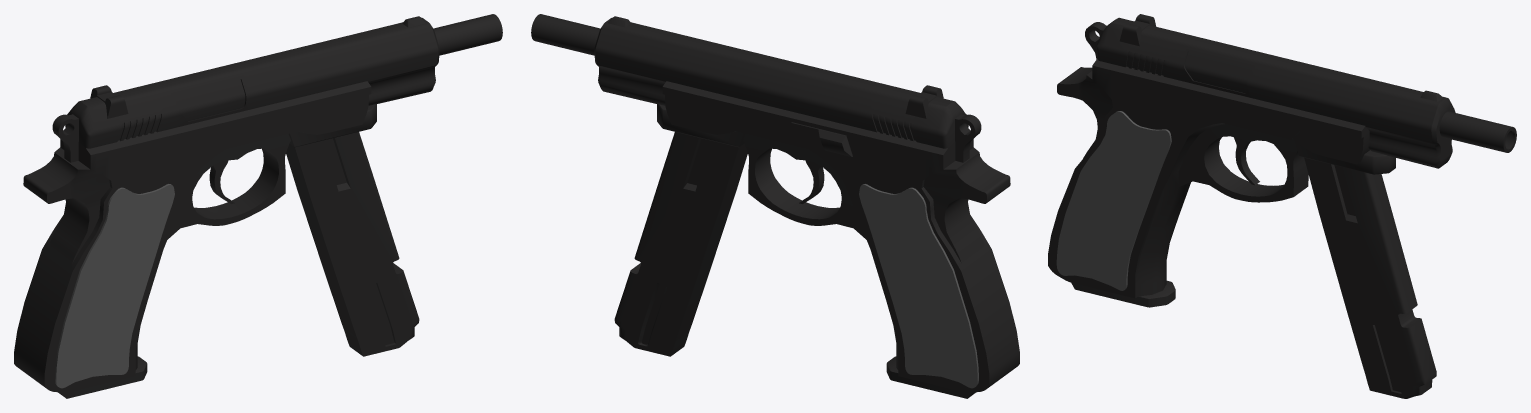
Rendered from CZ_75_Auto_Mesh.fbx.
3 views of the same model, side by side, from view 1: azimuth 30°, elevation 25°; view 2: azimuth 150°, elevation 25°; view 3: azimuth 330°, elevation 25° (orthographic). The views are drawn at different scales.
Parts seen in each view (by area): view 1: CZ_75_Auto; view 2: CZ_75_Auto; view 3: CZ_75_Auto.
Part boxes in pixels (x1=…): CZ_75_Auto: x1=14, y1=14, x2=502, y2=398; CZ_75_Auto: x1=531, y1=14, x2=1019, y2=398; CZ_75_Auto: x1=1048, y1=14, x2=1516, y2=398.
Bounding box in the file's own units: 0.3828 × 0.2505 × 0.0506.
